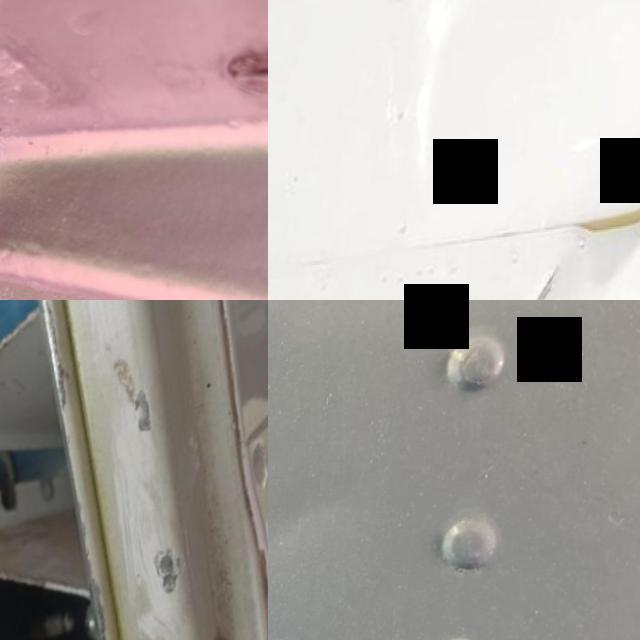Crack: (152, 524, 198, 614), (128, 364, 164, 459)
Dent: (268, 468, 368, 602), (555, 206, 640, 300), (0, 153, 44, 300)
